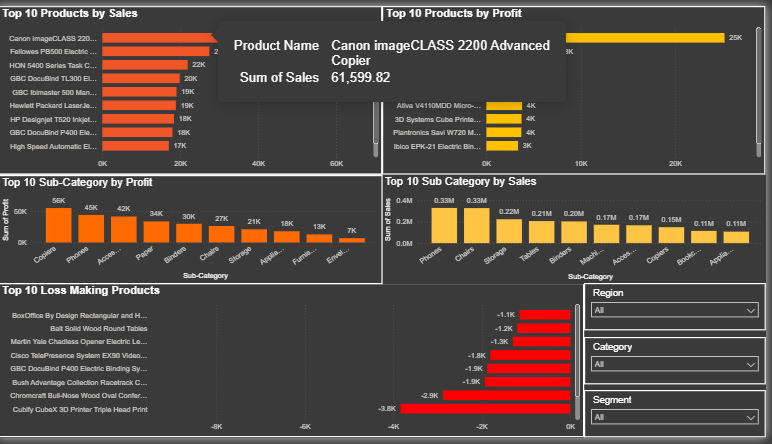

What the dashboard file says about the page in this screenshot:
{"tool":"powerbi","page":{"name":"Product Analysis","canvas":[1280,720],"ordinal":1},"visuals":[{"type":"clusteredBarChart","title":"Top 10 Products by Sales","fields":{"Category":["Sample - Superstore.Product Name"],"Y":["Sum(Sample - Superstore.Sales)"]},"box":[0,0,640.8,280.9],"z":0},{"type":"clusteredBarChart","title":"Top 10 Products by Profit","fields":{"Category":["Sample - Superstore.Product Name"],"Y":["Sum(Sample - Superstore.Profit)"]},"box":[640.8,0,639.2,280.9],"z":1000},{"type":"clusteredBarChart","title":"Top 10 Loss Making Products","fields":{"Category":["Sample - Superstore.Product Name"],"Y":["Sum(Sample - Superstore.Profit)"]},"box":[0,462.4,977,257.3],"z":2000},{"type":"clusteredColumnChart","title":"Top 10 Sub Category by Sales","fields":{"Category":["Sample - Superstore.Sub-Category"],"Y":["Sum(Sample - Superstore.Sales)"]},"box":[640.8,280.9,639.2,181.5],"z":3000},{"type":"clusteredColumnChart","title":"Top 10 Sub-Category by Profit","fields":{"Category":["Sample - Superstore.Sub-Category"],"Y":["Sum(Sample - Superstore.Profit)"]},"box":[0,280.9,640.8,181.5],"z":4000},{"type":"slicer","fields":{"Values":["Sample - Superstore.Segment"]},"box":[977,640.8,303,78.9],"z":5000},{"type":"slicer","fields":{"Values":["Sample - Superstore.Category"]},"box":[977,552.4,303,78.9],"z":6000},{"type":"slicer","fields":{"Values":["Sample - Superstore.Region"]},"box":[977,462.4,303,78.9],"z":7000}]}

Visuals, with their boxes in screenshot pixels (x1, y1, x2, y2), scaled from the page's 1280x720 canvas onto the 772x444 screenshot:
"Top 10 Products by Sales" clusteredBarChart: 0 0 386 173
"Top 10 Products by Profit" clusteredBarChart: 386 0 771 173
"Top 10 Loss Making Products" clusteredBarChart: 0 285 589 443
"Top 10 Sub Category by Sales" clusteredColumnChart: 386 173 771 285
"Top 10 Sub-Category by Profit" clusteredColumnChart: 0 173 386 285
slicer - Sample - Superstore.Segment: 589 395 771 443
slicer - Sample - Superstore.Category: 589 341 771 389
slicer - Sample - Superstore.Region: 589 285 771 334
